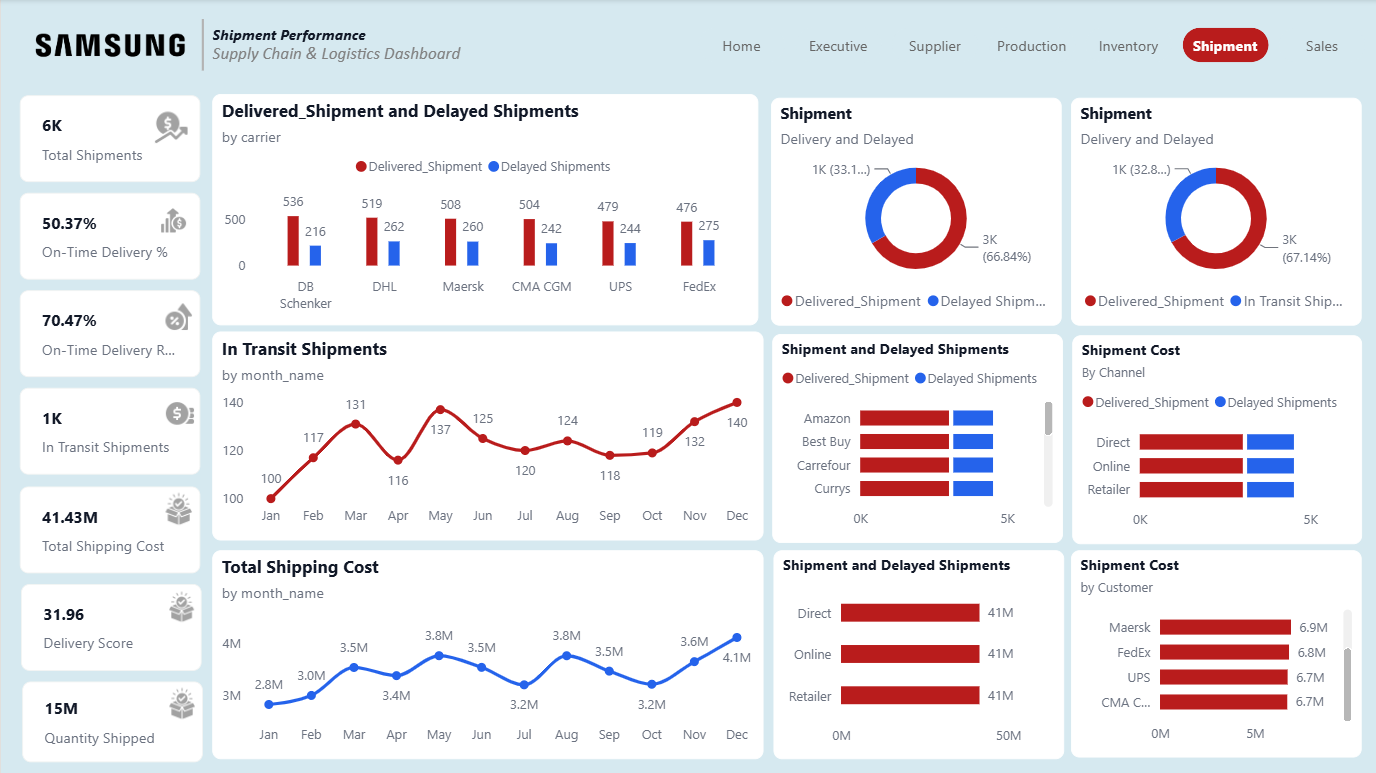

The dashboard page shown, as its layout file describes it:
{"tool":"powerbi","page":{"name":"Shipment ","canvas":[1280,720],"ordinal":5},"visuals":[{"type":"lineChart","fields":{"Category":["dim_date.month_name"],"Y":["MeasureTable.In Transit Shipments"]},"box":[196.4,309.5,513.1,194],"z":0},{"type":"donutChart","title":"Shipment","fields":{"Y":["MeasureTable.Delivered_Shipment","MeasureTable.Delayed Shipments"]},"box":[716.7,91.7,270.2,211.9],"z":1000},{"type":"lineChart","fields":{"Category":["dim_date.month_name"],"Y":["MeasureTable.Total Shipping Cost"]},"box":[196.4,513.1,513.1,194],"z":2000},{"type":"barChart","title":"Shipment Cost","fields":{"Y":["MeasureTable.Delivered_Shipment","MeasureTable.Delayed Shipments"],"Category":["dim_customer.channel_type"]},"box":[996.2,312.4,269.3,194.3],"z":3000},{"type":"clusteredColumnChart","fields":{"Y":["MeasureTable.Delivered_Shipment","MeasureTable.Delayed Shipments"],"Category":["fact_shipment.carrier"]},"box":[196.4,88.1,508.3,215],"z":4000},{"type":"cardVisual","fields":{"Data":["MeasureTable.Total Shipping Cost"]},"box":[17.7,453.6,168,81],"z":4000,"group":"g2"},{"type":"image","box":[16.7,19,164.3,47.6],"z":5000},{"type":"cardVisual","fields":{"Data":["MeasureTable.Total Shipments"]},"box":[17.8,89.1,167.9,81],"z":5000,"group":"g6"},{"type":"textbox","box":[192.3,19,294.8,48.1],"z":6000},{"type":"cardVisual","fields":{"Data":["MeasureTable.On-Time Delivery Rate %"]},"box":[17.3,271.1,168,81],"z":6000,"group":"g4"},{"type":"shape","box":[159.3,19,56.9,48.1],"z":7000},{"type":"cardVisual","fields":{"Data":["MeasureTable.In Transit Shipments"]},"box":[17.3,362.1,168,81],"z":7000,"group":"g3"},{"type":"pageNavigator","box":[648.8,26.2,621.4,32.1],"z":8000},{"type":"cardVisual","fields":{"Data":["MeasureTable.On-Time Delivery %"]},"box":[17.7,180.1,168,81],"z":8000,"group":"g5"},{"type":"image","box":[139.2,98,40.5,40.5],"z":9000,"group":"g6"},{"type":"group","id":"g1","title":"Group 1","box":[18.7,544.5,168.8,81],"z":9000},{"type":"image","box":[144.3,187.8,32.9,35.4],"z":10000,"group":"g5"},{"type":"group","id":"g2","title":"Group 2","box":[17.7,453.1,168,81.5],"z":10000},{"type":"image","box":[145.2,276.3,40.5,40.5],"z":11000,"group":"g4"},{"type":"group","id":"g3","title":"Group 3","box":[17.3,362.1,168.3,81],"z":11000},{"type":"group","id":"g4","title":"Group 4","box":[17.3,271.1,168.4,81],"z":12000},{"type":"image","box":[147.7,366,38,40.5],"z":12000,"group":"g3"},{"type":"group","id":"g5","title":"Group 5","box":[17.7,180.1,168,81],"z":13000},{"type":"image","box":[145.2,453.1,40.2,41.4],"z":13000,"group":"g2"},{"type":"group","id":"g6","title":"Group 6","box":[17.8,89.1,167.9,81],"z":14000},{"type":"cardVisual","fields":{"Data":["MeasureTable.Delivery Performance Score"]},"box":[18.7,544.5,168,81],"z":14000,"group":"g1"},{"type":"image","box":[148.6,545.1,38.9,40.2],"z":15000,"group":"g1"},{"type":"group","id":"g7","title":"Group 7","box":[20.2,634.9,167.9,75],"z":15000},{"type":"barChart","title":"Shipment and Delayed Shipments","fields":{"Y":["MeasureTable.Delivered_Shipment","MeasureTable.Delayed Shipments"],"Category":["dim_customer.customer_name"]},"box":[717.9,311.9,270,194],"z":16000},{"type":"donutChart","title":"Shipment","fields":{"Y":["MeasureTable.Delivered_Shipment","MeasureTable.In Transit Shipments"]},"box":[995.2,91.7,270.2,211.9],"z":17000},{"type":"cardVisual","fields":{"Data":["MeasureTable.Total Quantity Shipped"]},"box":[20.2,634.9,168,75],"z":17000,"group":"g7"},{"type":"barChart","title":"Shipment and Delayed Shipments","fields":{"Category":["dim_customer.channel_type"],"Y":["MeasureTable.Total Shipping Cost"]},"box":[718.2,512.8,270.6,194.3],"z":18000},{"type":"image","box":[149.3,635,39.2,40.5],"z":18000,"group":"g7"},{"type":"barChart","title":"Shipment Cost","fields":{"Y":["MeasureTable.Total Shipping Cost"],"Category":["fact_shipment.carrier"]},"box":[994.9,512.8,270.6,193.1],"z":19000}]}

Visuals, with their boxes in screenshot pixels (x1, y1, x2, y2), scaled from the page's 1280x720 canvas onto the 1376x773 screenshot:
lineChart - dim_date.month_name x MeasureTable.In Transit Shipments: [left=211, top=332, right=763, bottom=541]
"Shipment" donutChart: [left=770, top=98, right=1061, bottom=326]
lineChart - dim_date.month_name x MeasureTable.Total Shipping Cost: [left=211, top=551, right=763, bottom=759]
"Shipment Cost" barChart: [left=1071, top=335, right=1360, bottom=544]
clusteredColumnChart - MeasureTable.Delivered_Shipment x MeasureTable.Delayed Shipments: [left=211, top=95, right=758, bottom=325]
cardVisual - MeasureTable.Total Shipping Cost: [left=19, top=487, right=200, bottom=574]
image: [left=18, top=20, right=195, bottom=72]
cardVisual - MeasureTable.Total Shipments: [left=19, top=96, right=200, bottom=183]
textbox: [left=207, top=20, right=524, bottom=72]
cardVisual - MeasureTable.On-Time Delivery Rate %: [left=19, top=291, right=199, bottom=378]
shape: [left=171, top=20, right=232, bottom=72]
cardVisual - MeasureTable.In Transit Shipments: [left=19, top=389, right=199, bottom=476]
pageNavigator: [left=697, top=28, right=1365, bottom=63]
cardVisual - MeasureTable.On-Time Delivery %: [left=19, top=193, right=200, bottom=280]
image: [left=150, top=105, right=193, bottom=149]
"Group 1" group: [left=20, top=585, right=202, bottom=672]
image: [left=155, top=202, right=190, bottom=240]
"Group 2" group: [left=19, top=486, right=200, bottom=574]
image: [left=156, top=297, right=200, bottom=340]
"Group 3" group: [left=19, top=389, right=200, bottom=476]
"Group 4" group: [left=19, top=291, right=200, bottom=378]
image: [left=159, top=393, right=200, bottom=436]
"Group 5" group: [left=19, top=193, right=200, bottom=280]
image: [left=156, top=486, right=199, bottom=531]
"Group 6" group: [left=19, top=96, right=200, bottom=183]
cardVisual - MeasureTable.Delivery Performance Score: [left=20, top=585, right=201, bottom=672]
image: [left=160, top=585, right=202, bottom=628]
"Group 7" group: [left=22, top=682, right=202, bottom=762]
"Shipment and Delayed Shipments" barChart: [left=772, top=335, right=1062, bottom=543]
"Shipment" donutChart: [left=1070, top=98, right=1360, bottom=326]
cardVisual - MeasureTable.Total Quantity Shipped: [left=22, top=682, right=202, bottom=762]
"Shipment and Delayed Shipments" barChart: [left=772, top=551, right=1063, bottom=759]
image: [left=160, top=682, right=203, bottom=725]
"Shipment Cost" barChart: [left=1070, top=551, right=1360, bottom=758]
